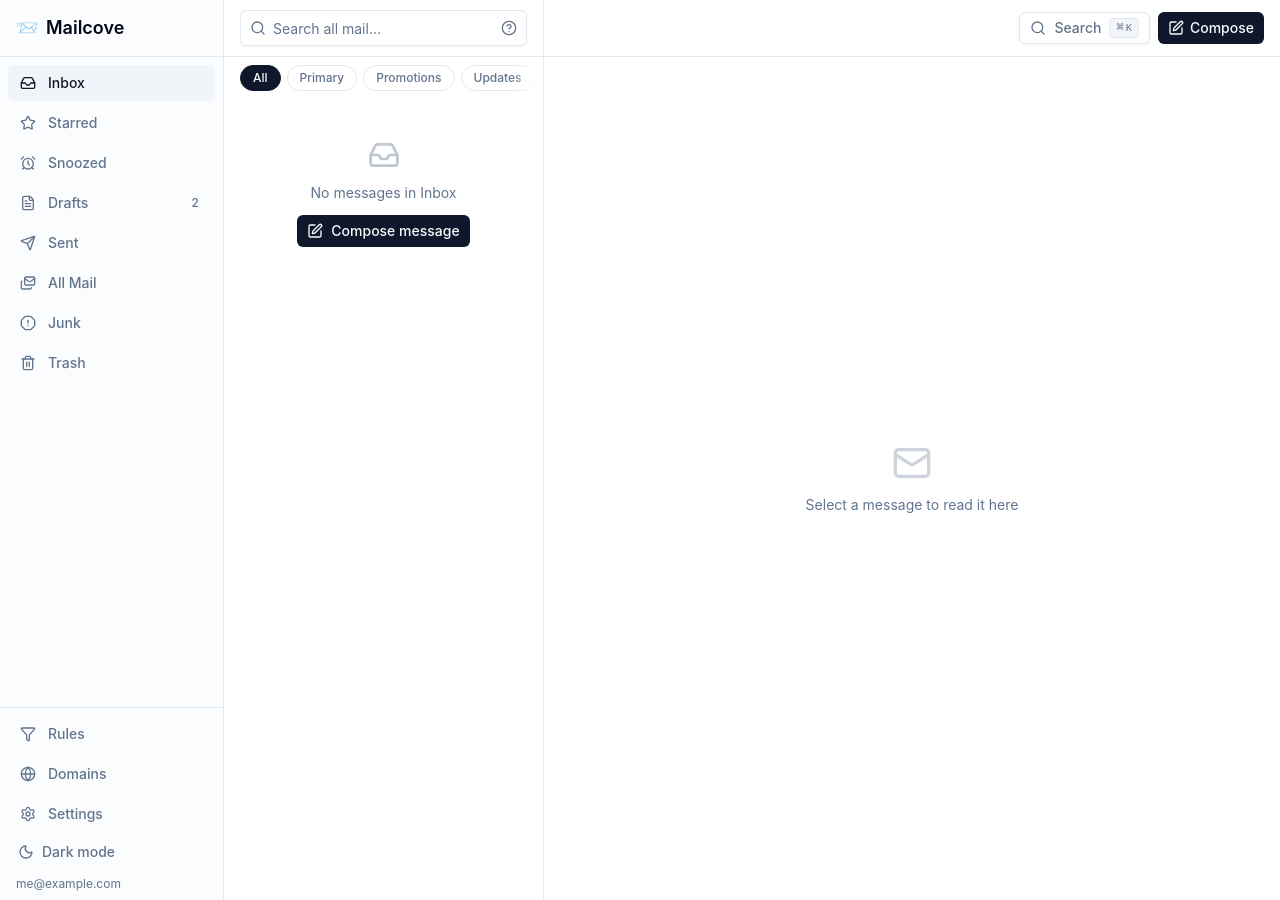
Drafts view › shows a Drafts nav item with the server count and lists drafts
Step 1. Click the button "Drafts 2" → coordinates (112, 203), box x1=8 y1=185 x2=215 y2=221
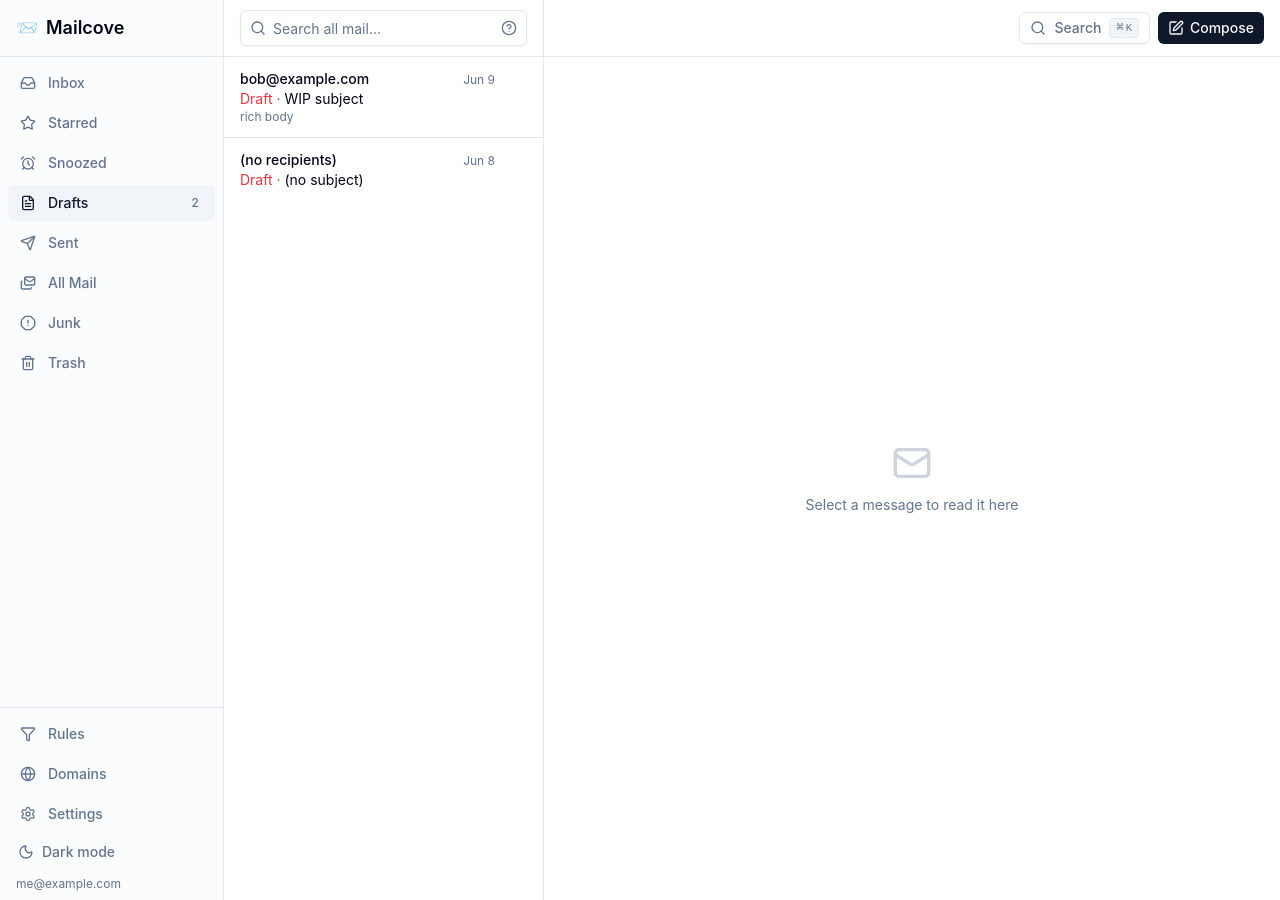
Expected: the text "bob@example.com" is shown, x1=240 y1=69 x2=369 y2=89
Expected: the text "WIP subject" is shown, x1=284 y1=90 x2=363 y2=107
Expected: the text "(no recipients)" is shown, x1=240 y1=150 x2=337 y2=170
